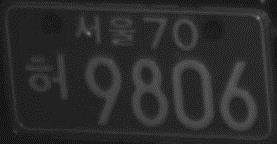0: (172, 57, 216, 132), (170, 16, 200, 52)
6: (219, 59, 259, 132)
7: (139, 15, 170, 52)
8: (129, 56, 168, 130)
9: (83, 54, 125, 128)
서울_O: (74, 13, 137, 50)
허: (25, 51, 70, 102)
